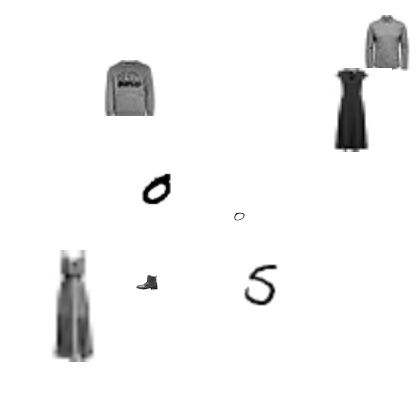0: (136, 168, 178, 210), (232, 209, 246, 223)
5: (233, 257, 289, 313)
Ankle_boot: (136, 271, 158, 293)
Dress: (17, 250, 129, 362), (308, 68, 392, 152)
Pullover: (101, 60, 157, 116)
Shirt: (359, 15, 415, 71)
